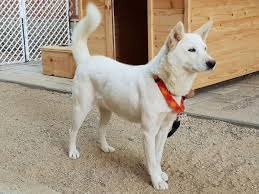dog: (183, 43, 217, 77)
